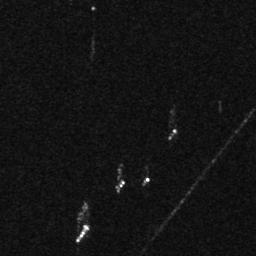ship: (74, 223, 91, 243), (167, 126, 177, 142), (115, 179, 125, 193)
